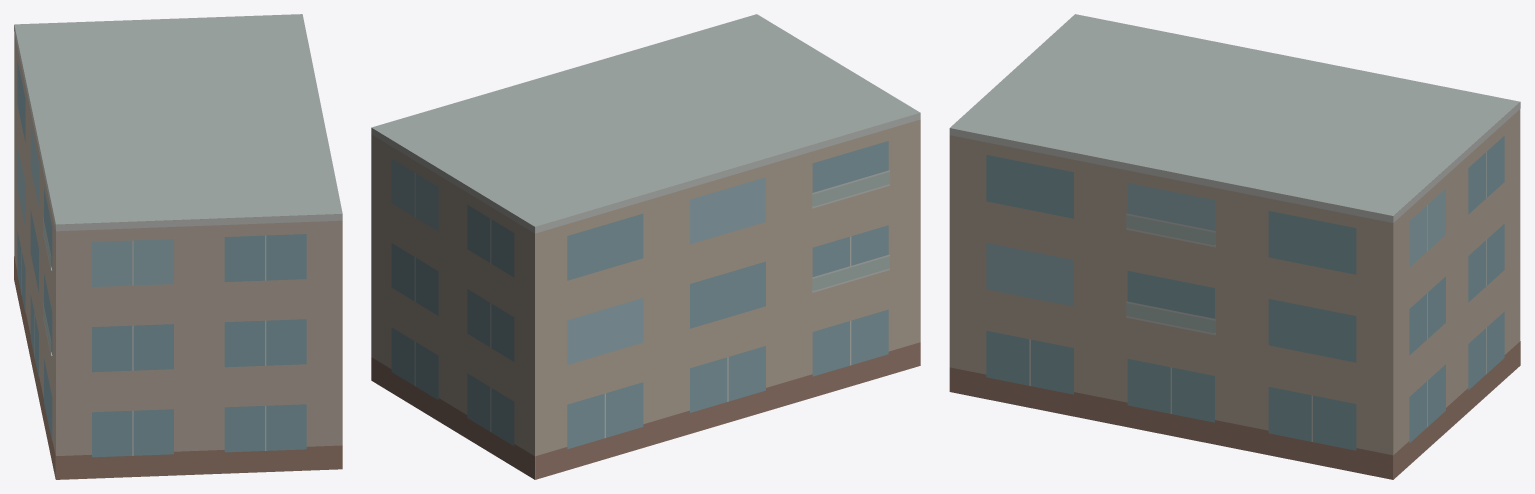
File: survey-upis-32697221.glb
The picture shows the model from 3 angles, left to right: view 1: azimuth 30°, elevation 25°; view 2: azimuth 150°, elevation 25°; view 3: azimuth 270°, elevation 25°; orthographic projection. The views are drawn at different scales.
Parts seen in each view (by area): view 1: survey-upis-32697221.tmp; view 2: survey-upis-32697221.tmp; view 3: survey-upis-32697221.tmp.
Part boxes in pixels (box(x1,y1,x2,y2)): survey-upis-32697221.tmp: box(14, 14, 342, 479); survey-upis-32697221.tmp: box(371, 14, 920, 479); survey-upis-32697221.tmp: box(949, 14, 1520, 479).
Bounding box in the file's own units: 15.03 × 9.15 × 17.95.
